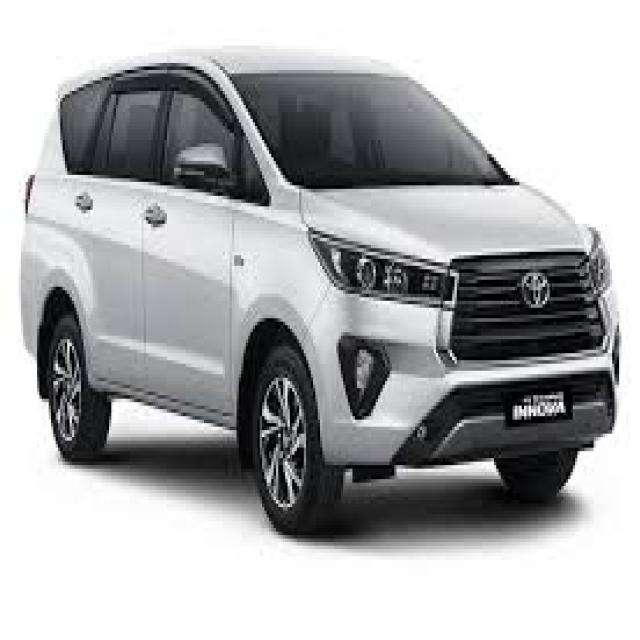light_vehicle: (19, 45, 620, 537)
